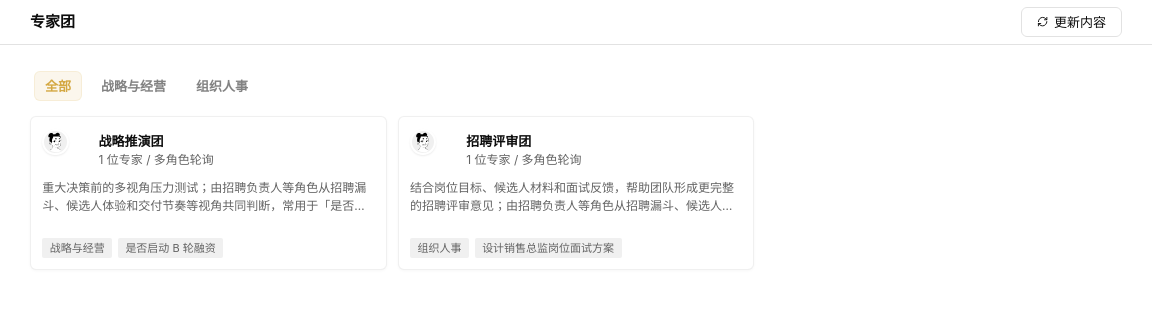
Test: ExpertTeamsPage › renders server-side expert team groups from the workplace directory
expect the button "全部" is shown: met, box x1=34 y1=71 x2=82 y2=101
expect the button "组织人事" is shown: met, box x1=185 y1=71 x2=259 y2=101
Click the button "战略与经营" at (134, 86), box x1=90 y1=71 x2=177 y2=101
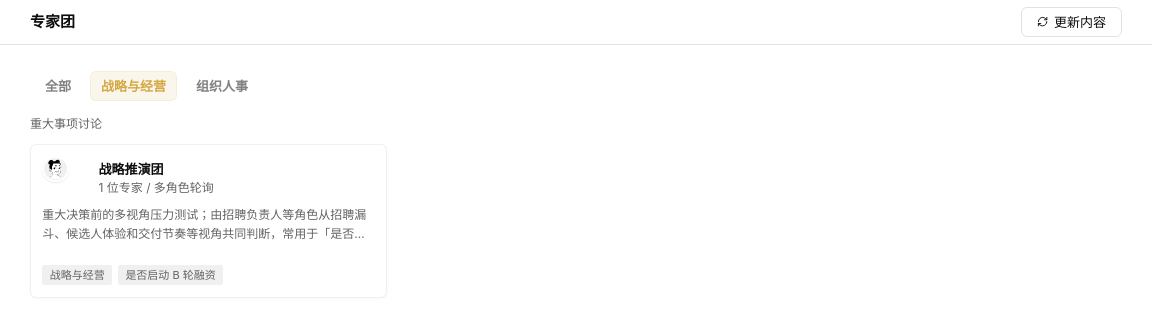
expect the text "战略推演团" is shown: met, box x1=98 y1=161 x2=164 y2=177
expect the text "重大事项讨论" is shown: met, box x1=30 y1=116 x2=102 y2=131
expect the button "招聘评审团" is gone: met
